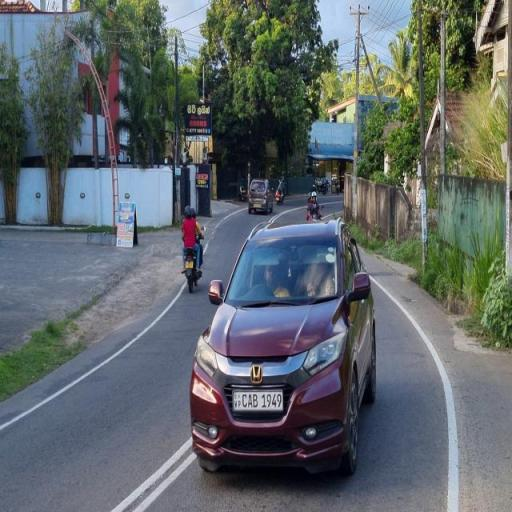double_white_line: (4, 274, 182, 430), (112, 437, 192, 511)
